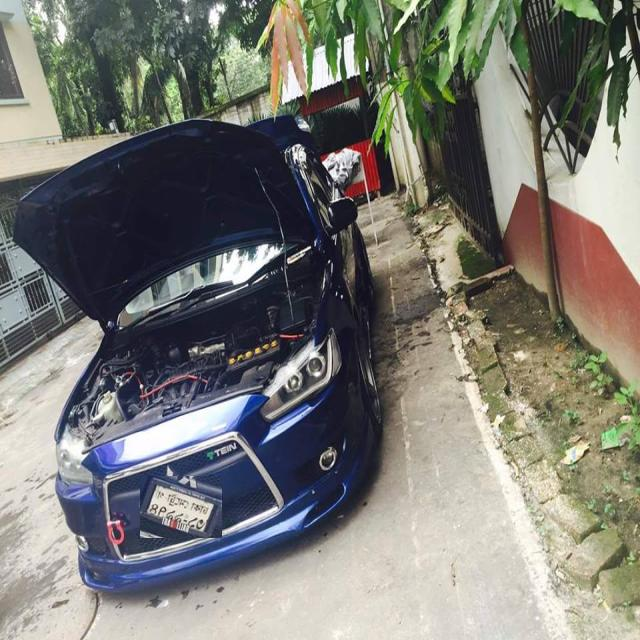numberplate: (140, 476, 222, 538)
